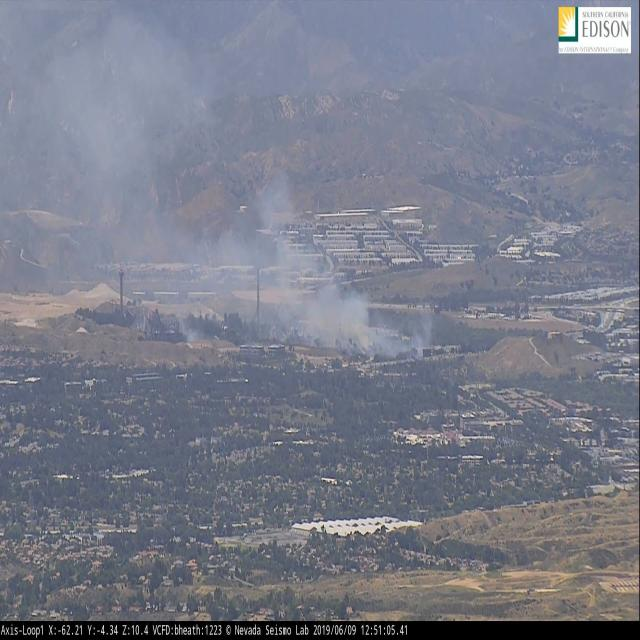smoke: (0, 0, 435, 357)
